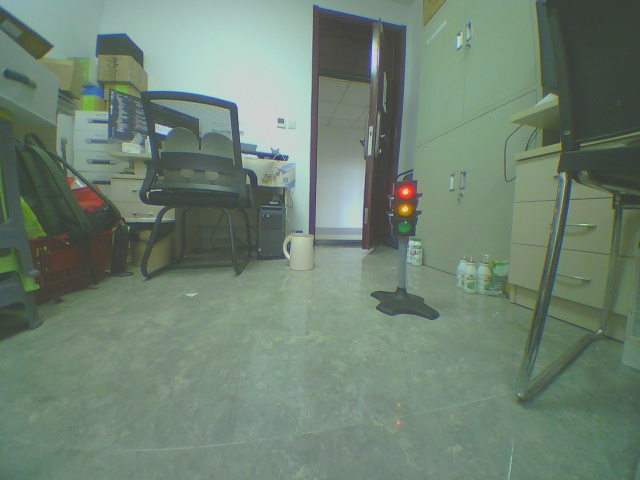Red_Yellow: (379, 172, 436, 247)
